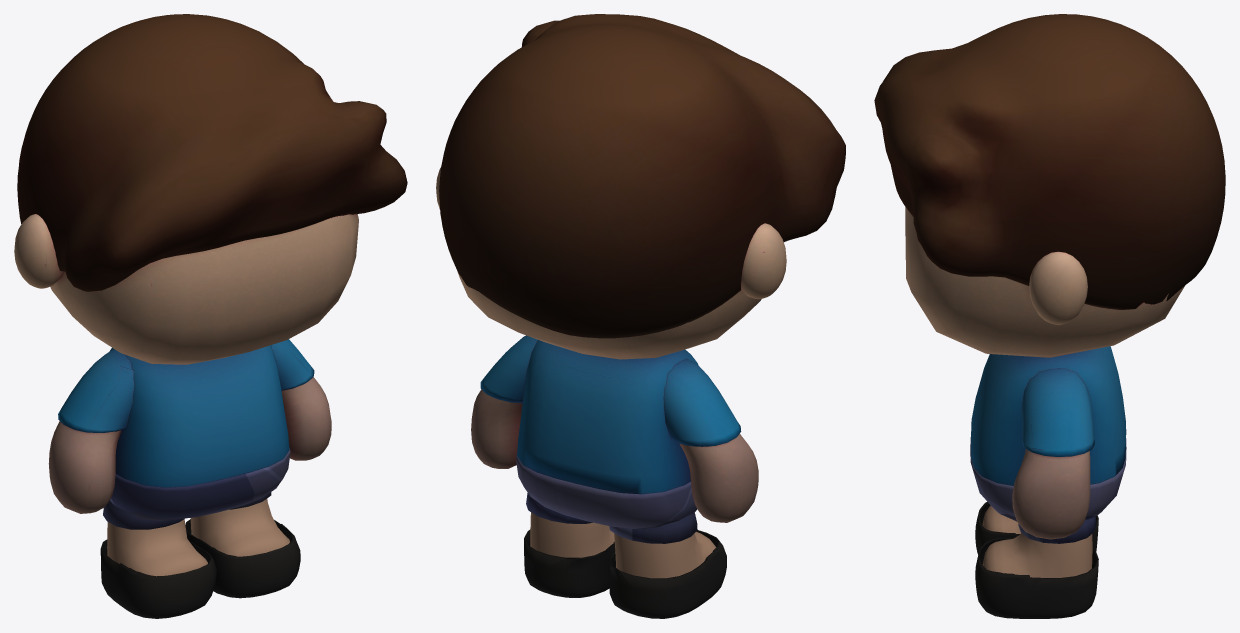
Rendered from npc-nino-2.glb.
3 renders of one model, left to right at view 1: azimuth 30°, elevation 25°; view 2: azimuth 150°, elevation 25°; view 3: azimuth 270°, elevation 25°, orthographic.
Parts seen in each view (by area): view 1: head_pelo, head_piel, body_camiseta, pantalon, armL_piel, legL_zapatos, armL_camiseta, legR_zapatos, legL_piel, legR_piel, armR_piel, armR_camiseta (+1 smaller); view 2: head_pelo, body_camiseta, head_piel, pantalon, legL_zapatos, armL_piel, armL_camiseta, legR_zapatos, legL_piel, armR_piel, legR_piel, armR_camiseta (+2 smaller); view 3: head_pelo, head_piel, body_camiseta, armR_piel, armR_camiseta, legR_zapatos, legR_piel, pantalon, legL_zapatos, pantalon_piernaR, legL_piel.
Boxes of the visible parts, <box> form: head_pelo: <box>17,14,407,291</box>; head_piel: <box>14,214,358,364</box>; body_camiseta: <box>109,345,289,487</box>; pantalon: <box>110,448,290,520</box>; armL_piel: <box>48,421,121,513</box>; legL_zapatos: <box>100,539,216,618</box>; armL_camiseta: <box>58,349,134,432</box>; legR_zapatos: <box>185,519,300,598</box>; legL_piel: <box>107,519,207,576</box>; legR_piel: <box>190,498,289,556</box>; armR_piel: <box>281,377,331,460</box>; armR_camiseta: <box>271,339,314,390</box>; head_pelo: <box>439,14,845,338</box>; body_camiseta: <box>517,340,698,494</box>; head_piel: <box>436,167,786,359</box>; pantalon: <box>516,454,697,528</box>; legL_zapatos: <box>609,530,726,618</box>; armL_piel: <box>679,433,758,522</box>; armL_camiseta: <box>663,359,741,446</box>; legR_zapatos: <box>524,529,615,597</box>; legL_piel: <box>614,531,716,578</box>; armR_piel: <box>471,389,522,468</box>; legR_piel: <box>530,512,614,557</box>; armR_camiseta: <box>480,335,537,403</box>; head_pelo: <box>874,14,1225,309</box>; head_piel: <box>905,207,1185,357</box>; body_camiseta: <box>971,346,1126,485</box>; armR_piel: <box>1012,449,1090,539</box>; armR_camiseta: <box>1021,368,1094,456</box>; legR_zapatos: <box>975,537,1098,618</box>; legR_piel: <box>982,533,1092,577</box>; pantalon: <box>970,437,1126,521</box>; legL_zapatos: <box>975,501,1098,554</box>; pantalon_piernaR: <box>1018,516,1096,543</box>; legL_piel: <box>982,505,1020,533</box>.
Size of the model in its own units: 2.93 by 4.57 by 2.62.
Materials: 6 (5 with a texture image).
